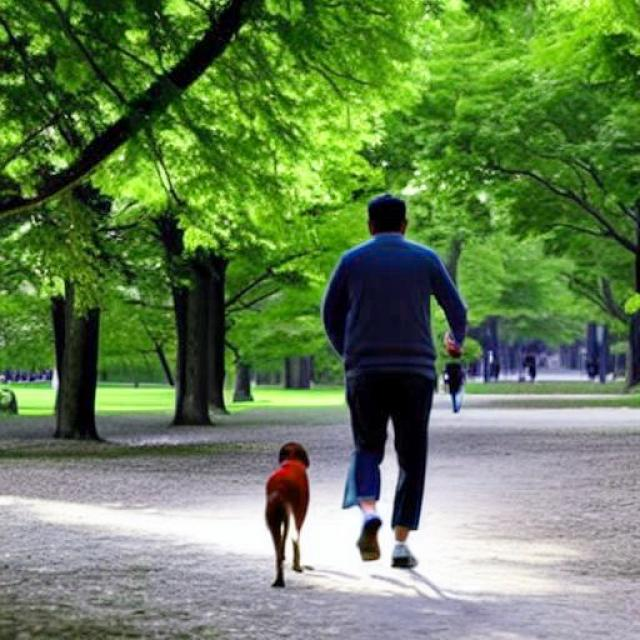Unleashed_Dog: (263, 374, 384, 590)
